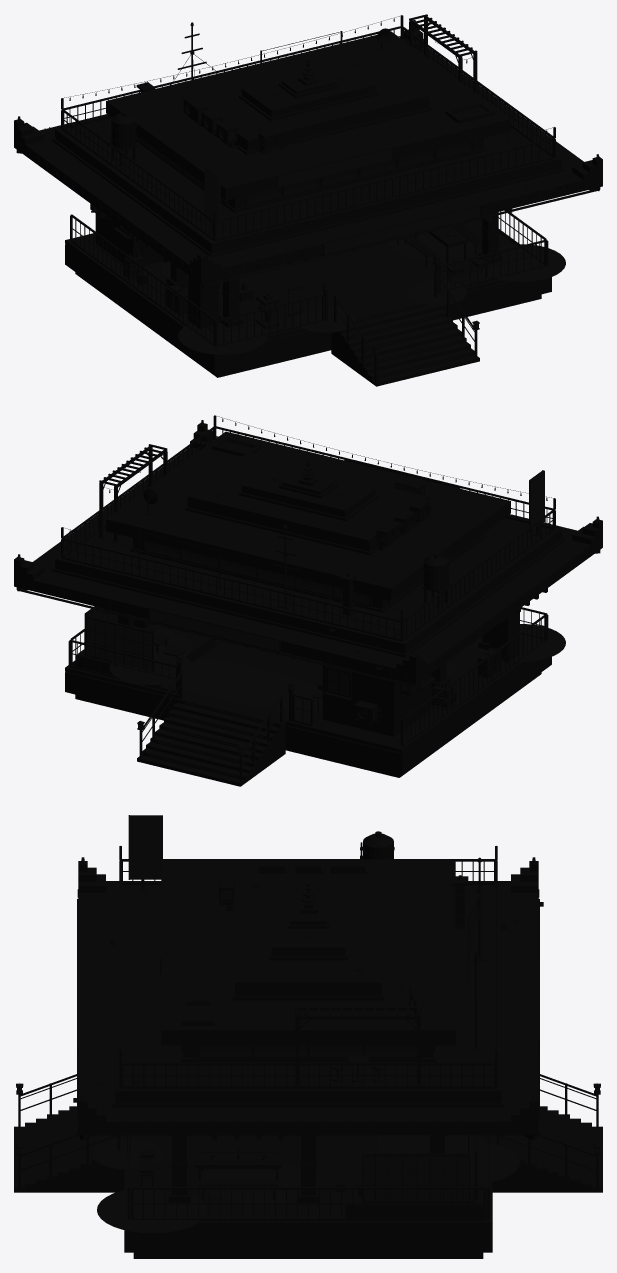
Rendered from pavilion_42-CMg7GI0F.glb.
The picture shows the model from 3 angles, top to bottom: view 1: azimuth 30°, elevation 25°; view 2: azimuth 150°, elevation 25°; view 3: azimuth 270°, elevation 25°; orthographic projection. The views are drawn at different scales.
Visible parts, largest first — view 1: body.42, glow.42, pool.42, glass.42; view 2: body.42, glow.42, pool.42, glass.42; view 3: body.42, pool.42, glow.42, glass.42.
Boxes of the visible parts, <box> form: body.42: <box>14,14,602,386</box>; glow.42: <box>17,20,599,376</box>; pool.42: <box>160,232,565,354</box>; glass.42: <box>122,104,488,232</box>; body.42: <box>14,415,602,786</box>; glow.42: <box>17,420,599,776</box>; pool.42: <box>109,624,565,714</box>; glass.42: <box>145,438,430,695</box>; body.42: <box>14,815,602,1258</box>; pool.42: <box>92,1135,519,1233</box>; glow.42: <box>17,815,599,1200</box>; glass.42: <box>186,1002,416,1055</box>.
Size of the model in its own units: 15.54 by 8.33 by 16.
4 materials, 4 textured.
